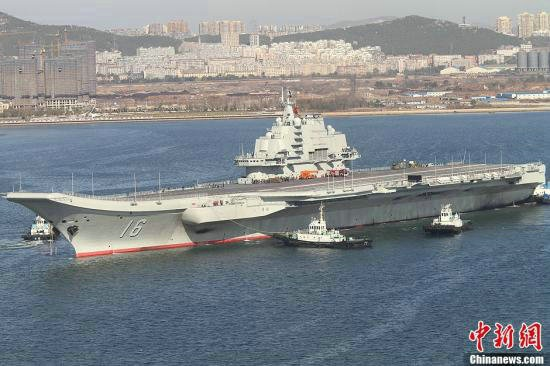otherboat: (247, 202, 374, 250), (421, 203, 473, 236), (22, 210, 57, 241)
warship: (3, 96, 545, 259)
